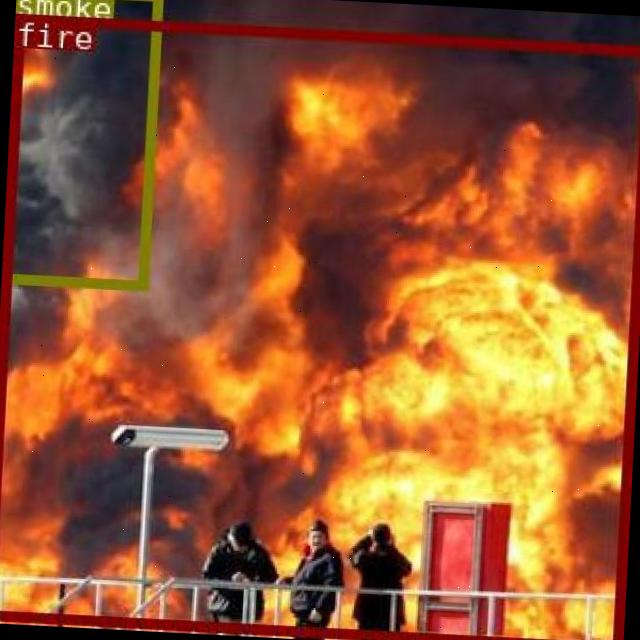fire: (0, 12, 640, 640)
smoke: (2, 0, 160, 287)
